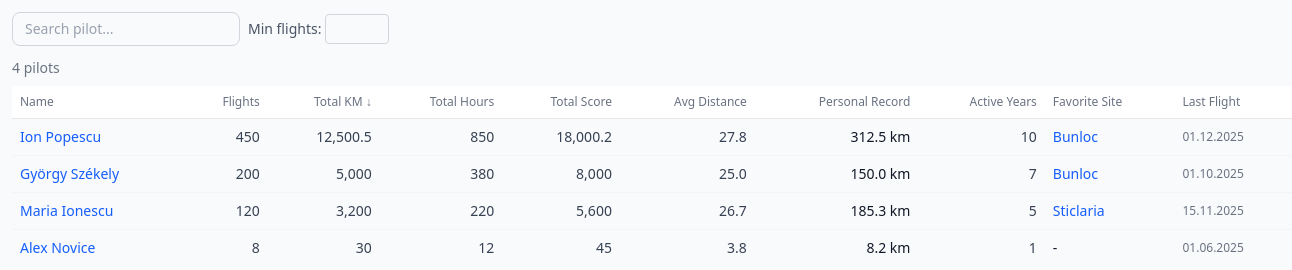
Test: PilotsTable › filters pilots by name search
Type "Ion" into the field with placeholder "Search pilot..." at (126, 29), box left=12, top=12, right=240, bottom=46
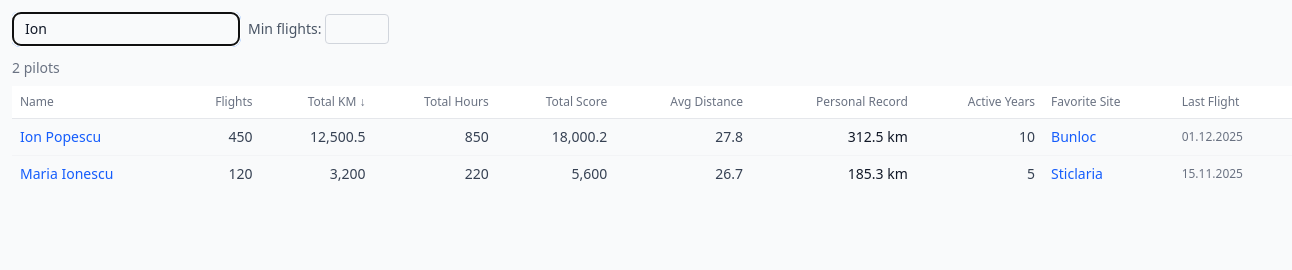
Expected: the link "Ion Popescu" is shown, left=20, top=127, right=101, bottom=146
Now the link "Alex Novice" is gone
